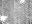person: (19, 0, 23, 5), (1, 16, 6, 19)
